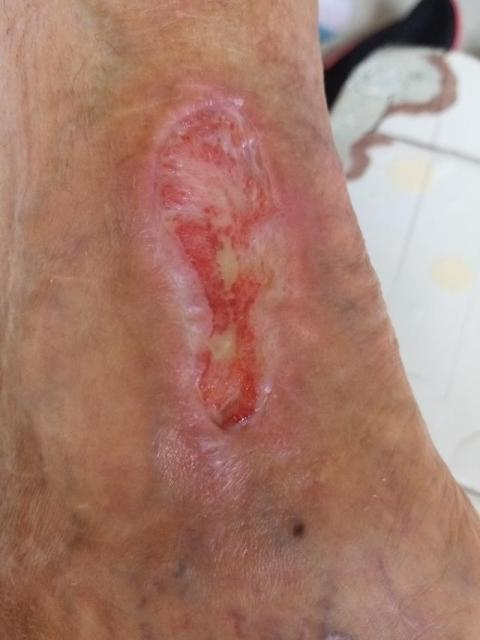wound: (153, 101, 275, 431)
